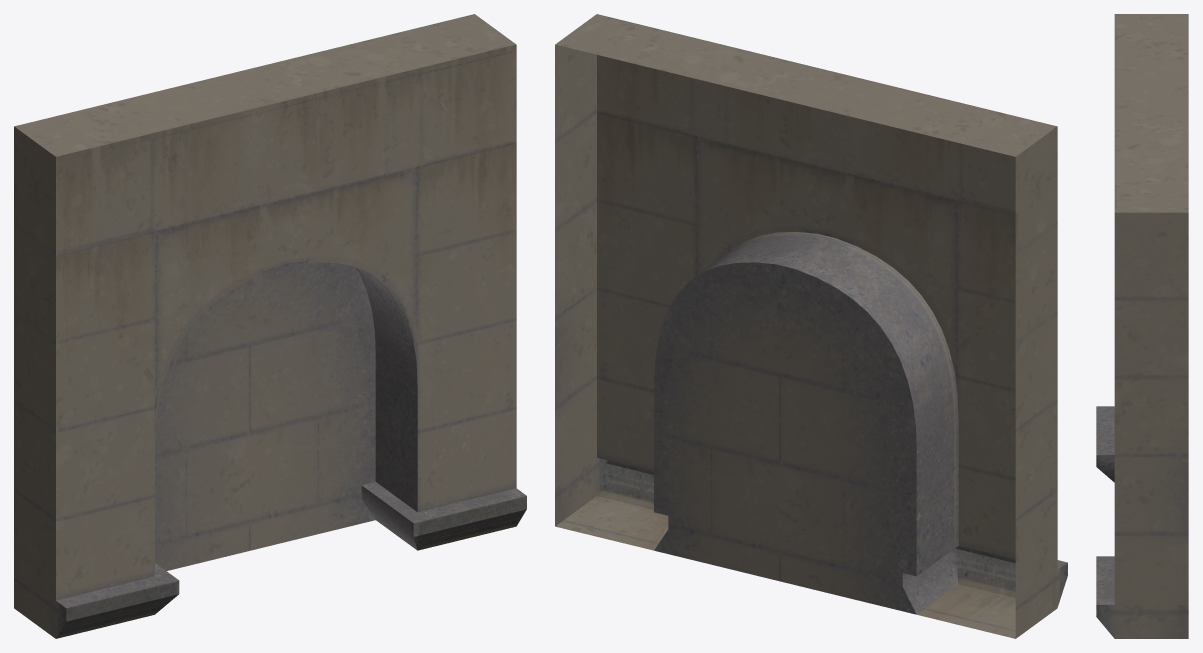
File: SM_Wall03Top.FBX
The picture shows the model from 3 angles, left to right: view 1: azimuth 30°, elevation 25°; view 2: azimuth 150°, elevation 25°; view 3: azimuth 270°, elevation 25°; orthographic projection. The views are drawn at different scales.
Visible parts, largest first — view 1: SM_Wall03Top; view 2: SM_Wall03Top; view 3: SM_Wall03Top.
Part boxes in pixels (left/top/right/bottom): SM_Wall03Top: left=14, top=14, right=526, bottom=638; SM_Wall03Top: left=555, top=14, right=1067, bottom=638; SM_Wall03Top: left=1096, top=14, right=1188, bottom=638.
Bounding box in the file's own units: 400 × 78.32 × 400.
